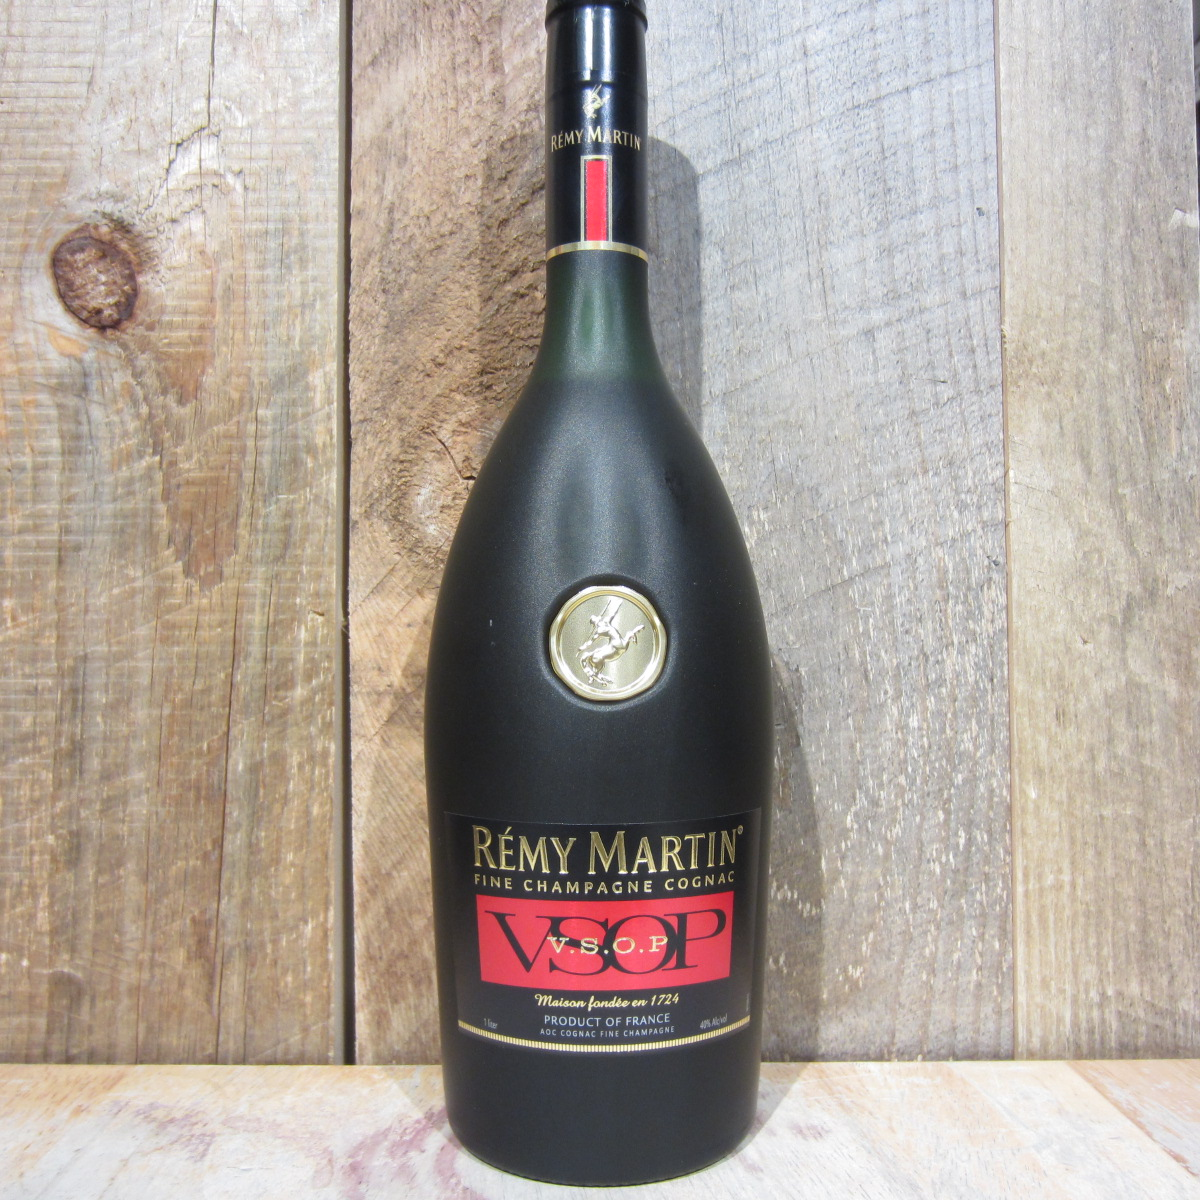Remy Martin: (373, 1, 816, 1195)
